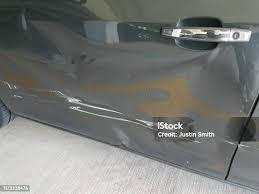scratch: (0, 76, 206, 149)
